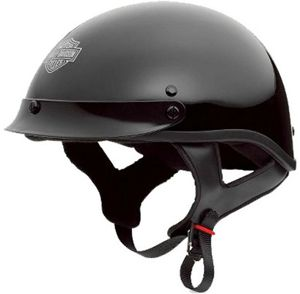with_helmet: (3, 1, 300, 214)
